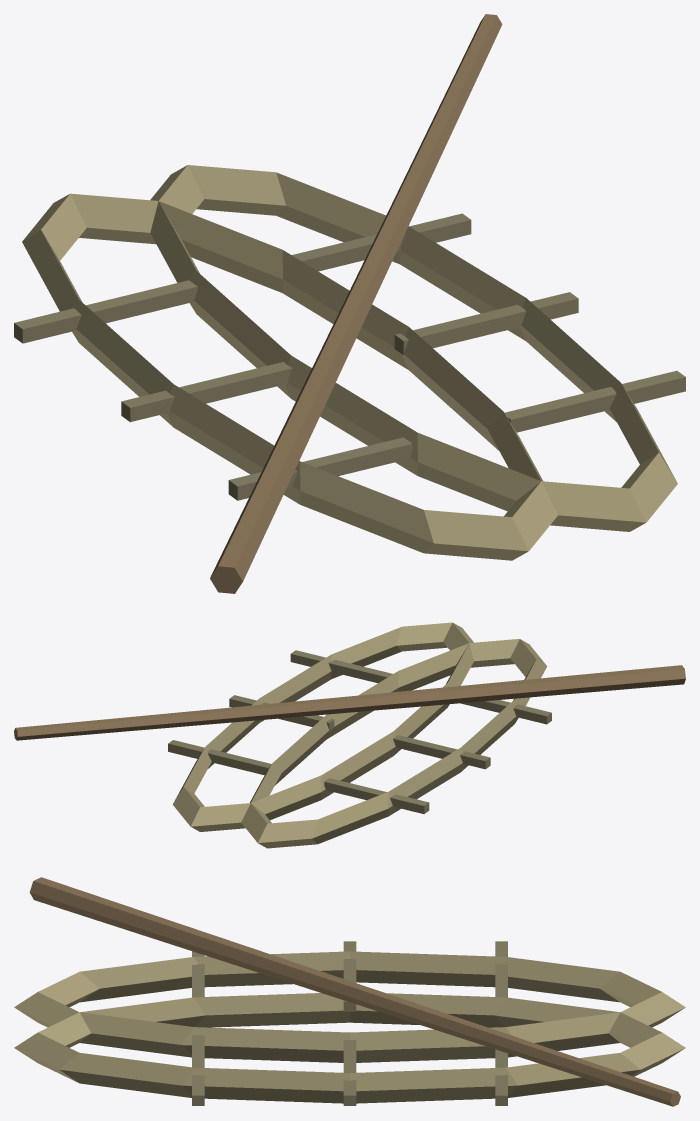
The model's file is map-exclusive-v3__ridge_09.glb.
3 views of the same model, one above another, from view 1: azimuth 30°, elevation 25°; view 2: azimuth 150°, elevation 25°; view 3: azimuth 270°, elevation 25° (orthographic). The views are drawn at different scales.
Visible parts, largest first — view 1: ridge_09; view 2: ridge_09; view 3: ridge_09.
Boxes of the visible parts, x1=… form: ridge_09: x1=14, y1=14, x2=685, y2=593; ridge_09: x1=14, y1=622, x2=685, y2=848; ridge_09: x1=14, y1=877, x2=685, y2=1106.
Bounding box in the file's own units: 1.34 × 0.1936 × 1.51.
